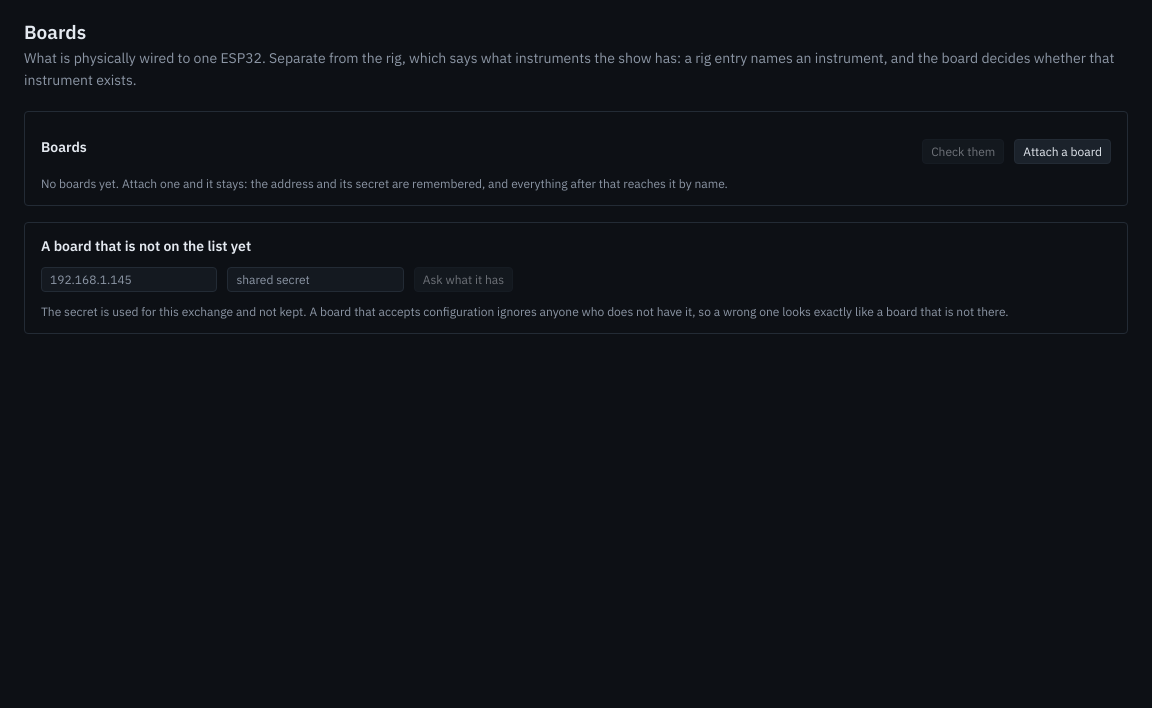
Test: what is wired to it › asks only for the settings that type has
In the field named "Board address": (129, 280) x1=41 y1=267 x2=217 y2=292, type "127.0.0.1:5599"
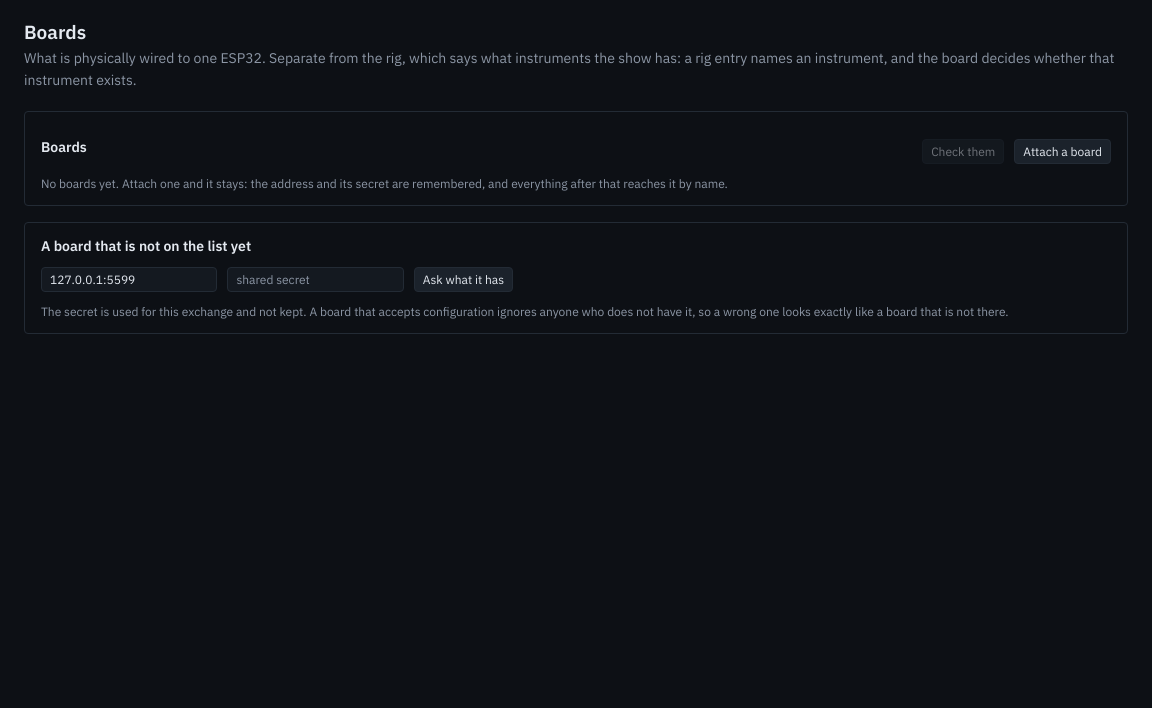
In the password field labelled "shared secret": (316, 280) x1=227 y1=267 x2=404 y2=292, type "bench secret"
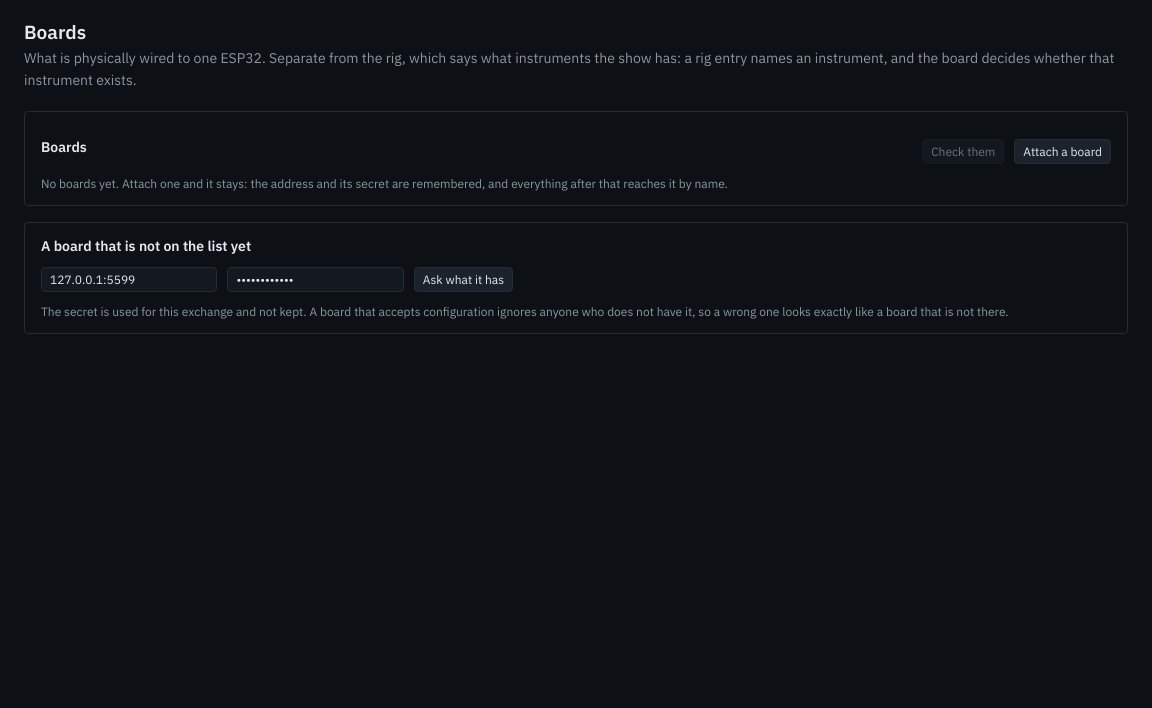
Click the button "Ask what it has": (463, 280) x1=414 y1=267 x2=513 y2=292
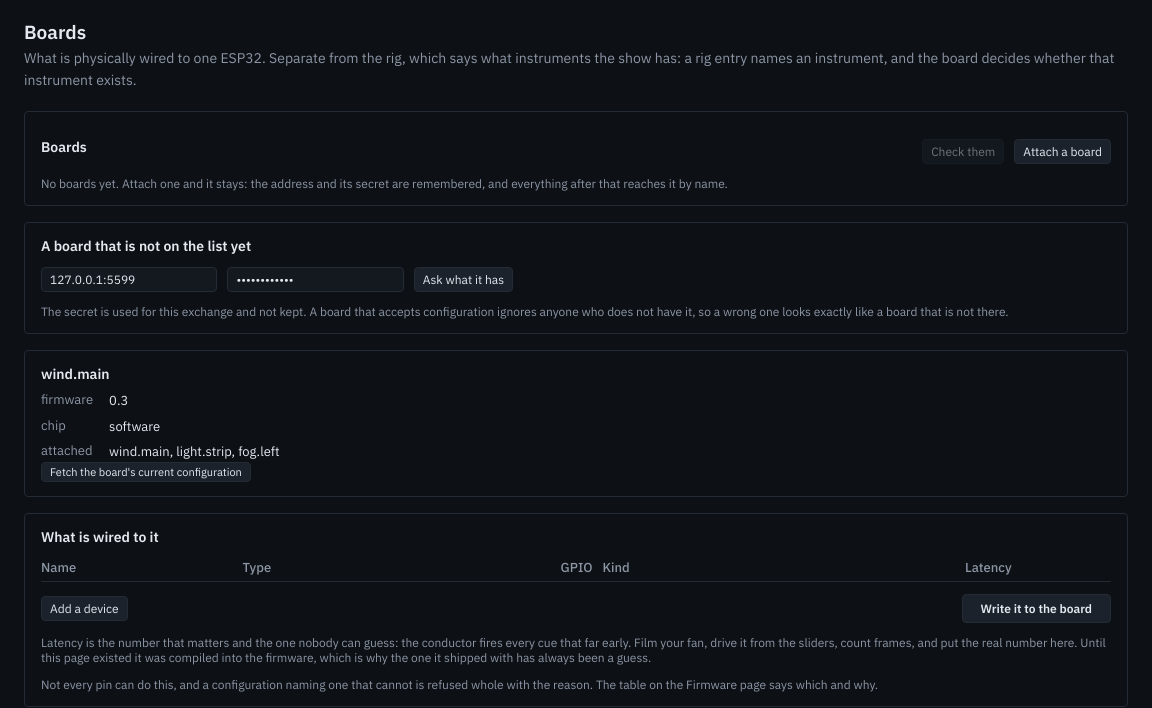
Check: the text "wind.main, light.strip, fog.left" is shown, box x1=109 y1=443 x2=280 y2=460
Click the button "Fetch the board's current configuration": (146, 472) x1=41 y1=462 x2=251 y2=482
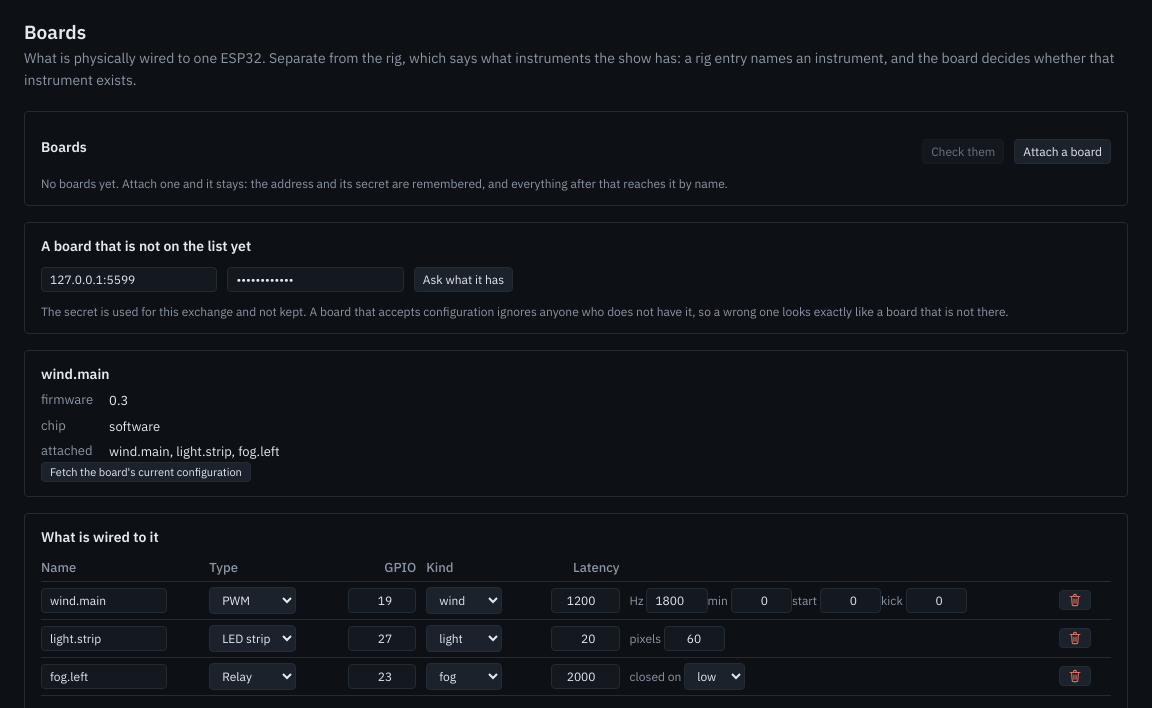
Check: the field named "Device 1 name" is shown, box x1=41 y1=588 x2=167 y2=613
Check: the number field named "Device 1 frequency" is shown, box x1=646 y1=588 x2=708 y2=613
Select "LED strip" in the dropdown named "Device 1 type": (253, 600) x1=209 y1=587 x2=296 y2=614
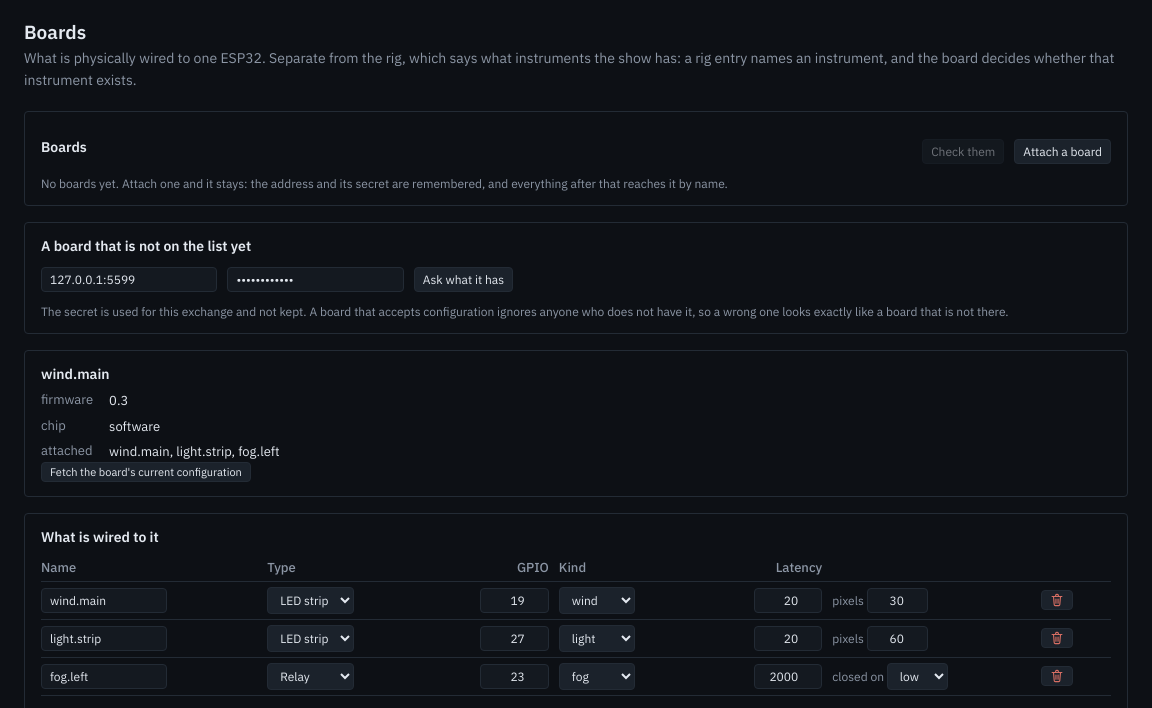
Check: the number field named "Device 1 pixels" is shown, box x1=867 y1=588 x2=928 y2=613
Select "Relay" in the dropdown named "Device 1 type": (311, 600) x1=267 y1=587 x2=354 y2=614
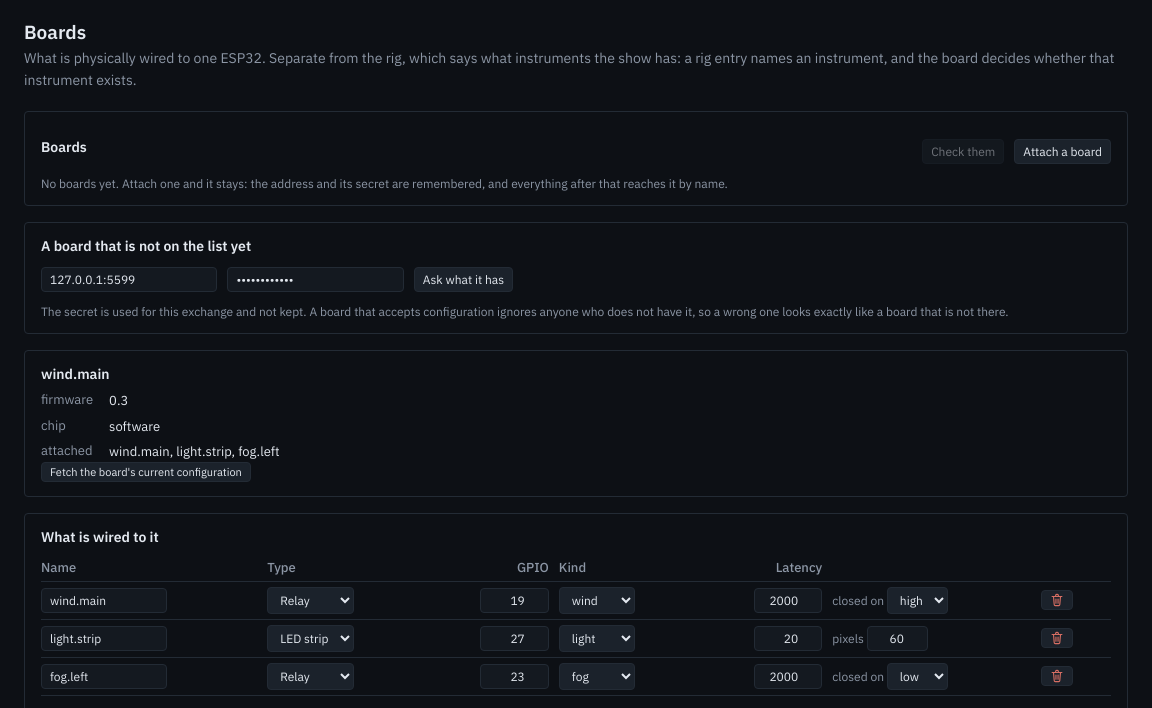
Check: the dropdown named "Device 1 active level" is shown, box x1=887 y1=587 x2=948 y2=614
